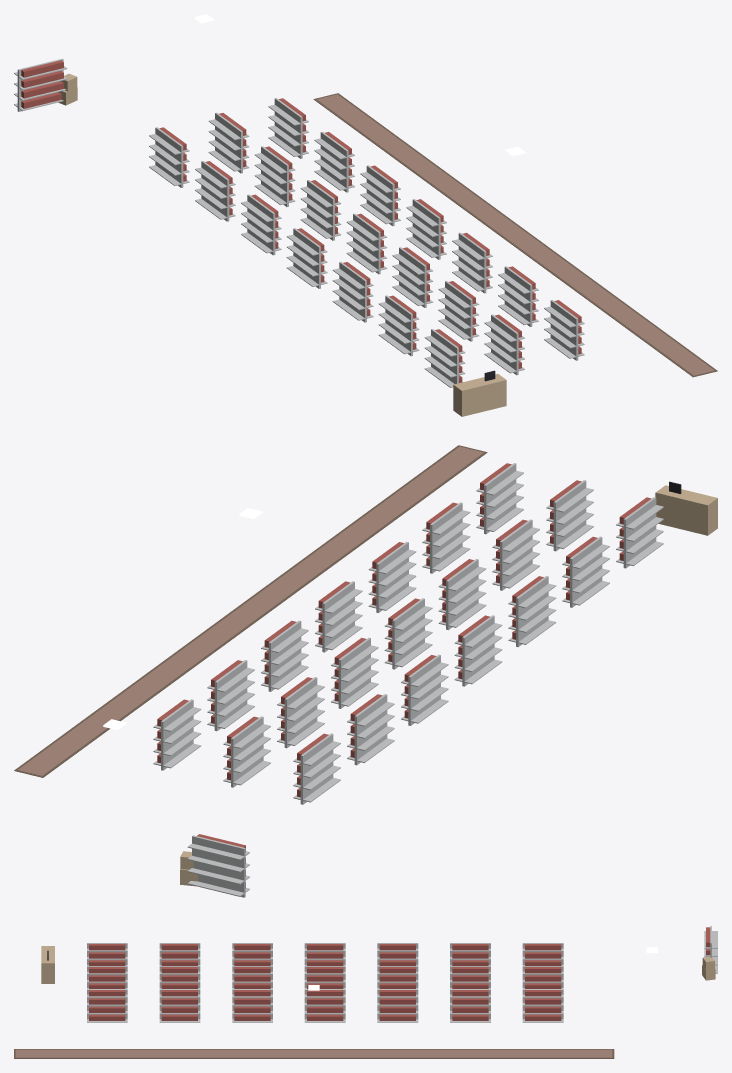
File: fine-s0.glb
The picture shows the model from 3 angles, top to bottom: view 1: azimuth 30°, elevation 25°; view 2: azimuth 150°, elevation 25°; view 3: azimuth 270°, elevation 25°; orthographic projection. The views are drawn at different scales.
Parts seen in each view (by area): view 1: soft-s0, shelving.000, shop-counter.000, shelf.007, shelf.005, shelf.002, shelf.004, shelf.015, shelf.017, shelf.018, shelf.001, shelf.003 (+12 smaller); view 2: soft-s0, shelving.000, shop-counter.000, shelf.006, shelf.001, shelf.016, shelf.010, shelf.003, shelf.014, shelf.018, shelf.002, shelf.009 (+12 smaller); view 3: soft-s0, shelf.014, shelf.016, shelf.019, shelf.017, shelf.015, shelf.018, shelf.020, shelf.000, shelf.002, shelf.003, shelf.005 (+13 smaller).
Part boxes in pixels (<box>): soft-s0: <box>313,93,717,377</box>; shelving.000: <box>14,58,67,111</box>; shop-counter.000: <box>453,370,506,416</box>; shelf.007: <box>208,112,249,173</box>; shelf.005: <box>378,295,419,356</box>; shelf.002: <box>241,194,281,255</box>; shelf.004: <box>332,262,373,322</box>; shelf.015: <box>314,131,354,192</box>; shelf.017: <box>406,199,446,259</box>; shelf.018: <box>452,232,492,293</box>; shelf.001: <box>195,161,235,221</box>; shelf.003: <box>286,228,327,288</box>; soft-s0: <box>14,445,487,777</box>; shelving.000: <box>187,834,249,897</box>; shop-counter.000: <box>655,481,717,535</box>; shelf.006: <box>616,497,663,568</box>; shelf.001: <box>347,694,394,765</box>; shelf.016: <box>261,620,308,691</box>; shelf.010: <box>384,598,432,669</box>; shelf.003: <box>454,615,502,686</box>; shelf.014: <box>153,699,201,770</box>; shelf.018: <box>368,541,416,612</box>; shelf.002: <box>401,654,448,725</box>; shelf.009: <box>331,637,378,708</box>; soft-s0: <box>14,1049,614,1058</box>; shelf.014: <box>522,989,563,1022</box>; shelf.016: <box>377,989,418,1022</box>; shelf.019: <box>159,989,200,1022</box>; shelf.017: <box>304,989,345,1022</box>; shelf.015: <box>450,989,490,1022</box>; shelf.018: <box>232,989,272,1022</box>; shelf.020: <box>87,989,127,1022</box>; shelf.000: <box>522,943,563,965</box>; shelf.002: <box>377,943,418,965</box>; shelf.003: <box>304,943,345,965</box>; shelf.005: <box>159,943,200,965</box>.
Size of the model in its own units: 10.4 by 3.25 by 31.01.
